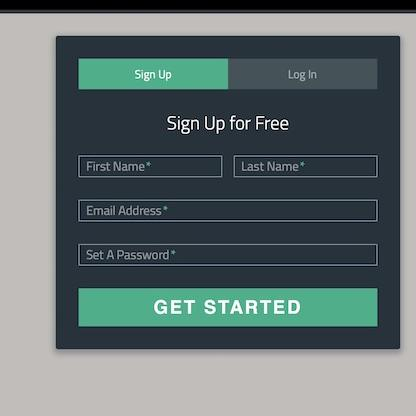button: (76, 286, 379, 328), (75, 56, 229, 91), (228, 57, 381, 91)
field: (77, 242, 381, 267), (77, 198, 380, 223), (75, 153, 225, 179), (232, 153, 379, 179)
